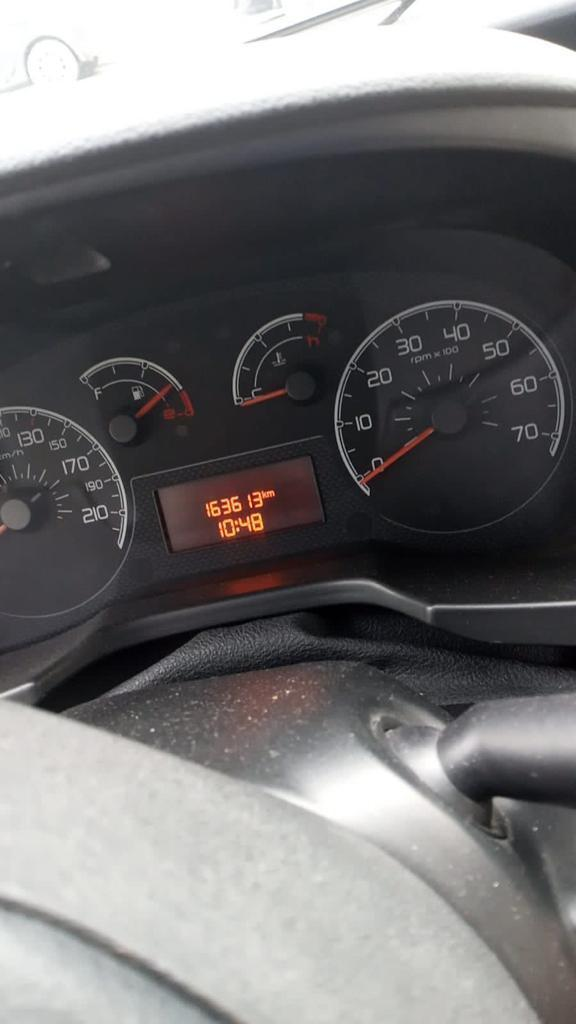0: (222, 519, 235, 538)
1: (216, 521, 223, 538), (246, 492, 252, 510), (204, 502, 210, 518)
3: (219, 497, 232, 514), (252, 491, 263, 508)
4: (237, 515, 252, 532)
6: (230, 495, 242, 513), (208, 499, 220, 517)
8: (250, 511, 264, 531)
odometer: (149, 451, 328, 559)
